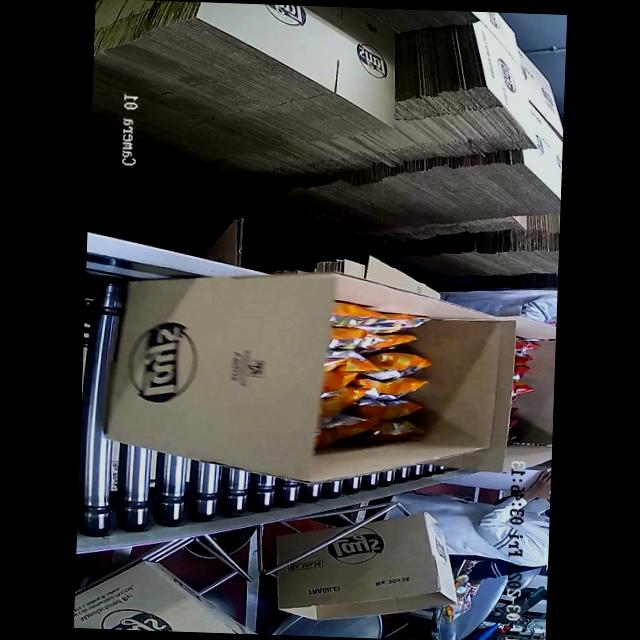cheese: (321, 295, 438, 431)
masala: (513, 323, 544, 434)
